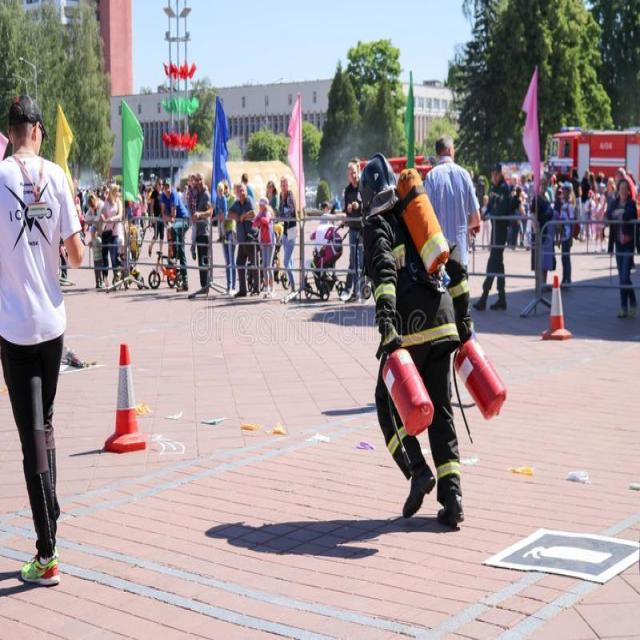fire_extinguisher: (372, 322, 429, 472), (446, 312, 507, 448)
